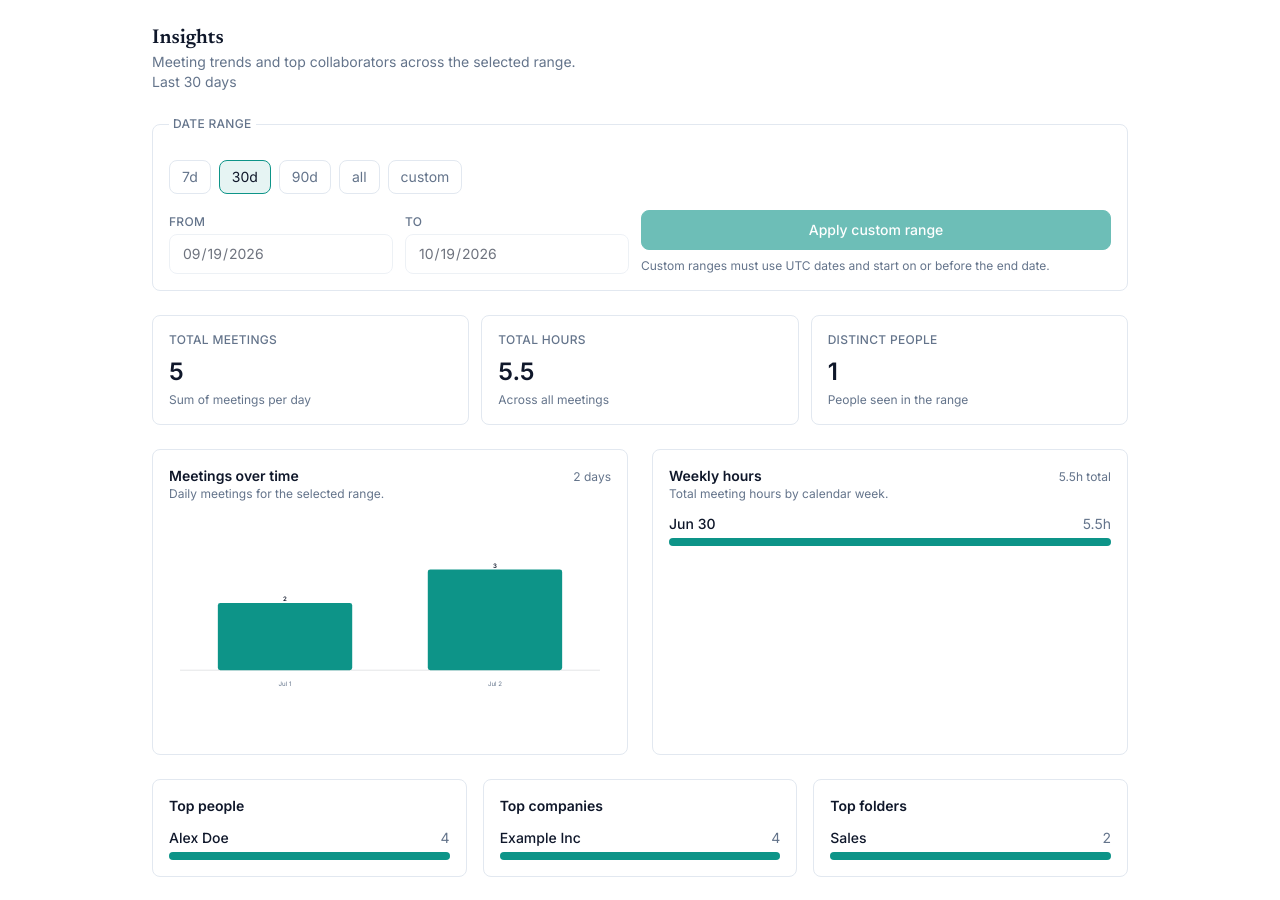
Test: InsightsScreen › reloads insights when a preset changes
The width and height of the screenshot is (1280, 900).
Expected: the text "5" is shown, [169,357,184,386]
Expected: the text "5.5" is shown, [498,357,534,386]
Click the button "7d". click: point(190, 177)
box: [169,160,211,194]
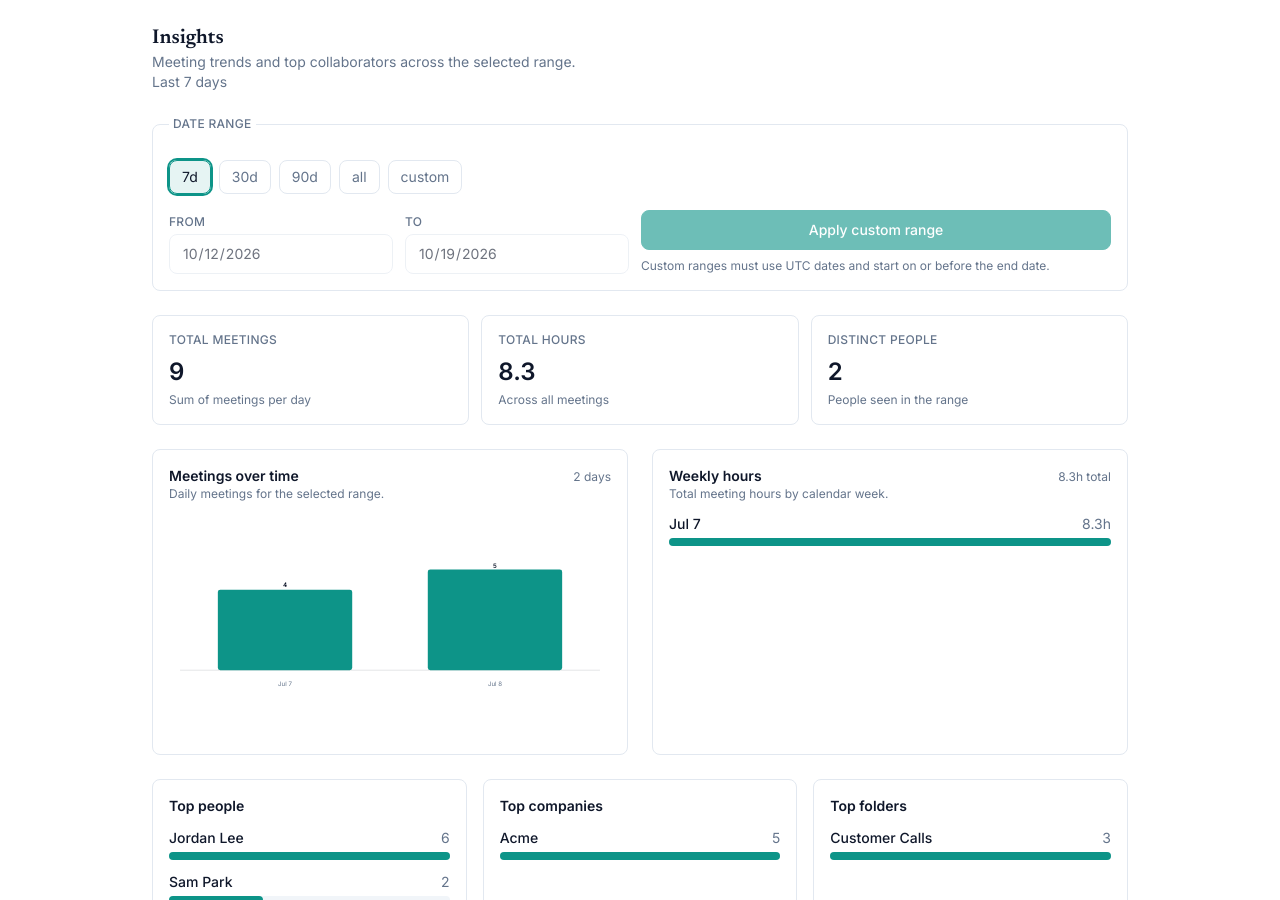
Result: the text "9" is shown at [169,357,184,386]
Result: the text "8.3" is shown at [498,357,536,386]
Result: the text "Jordan Lee" is shown at [169,828,244,848]
